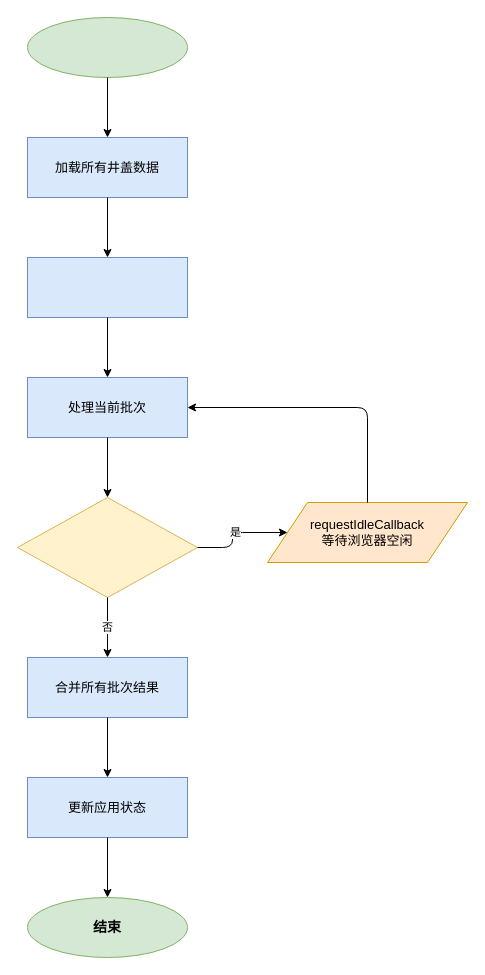
This 485x975 diagram has some shape labels left out. Here are the shapes that lost their labels. From the top down, the centre of each, then its label:
At pixel 107 47: "开始".
At pixel 107 287: "分批（每批10个）".
At pixel 107 547: "还有下一批？".
